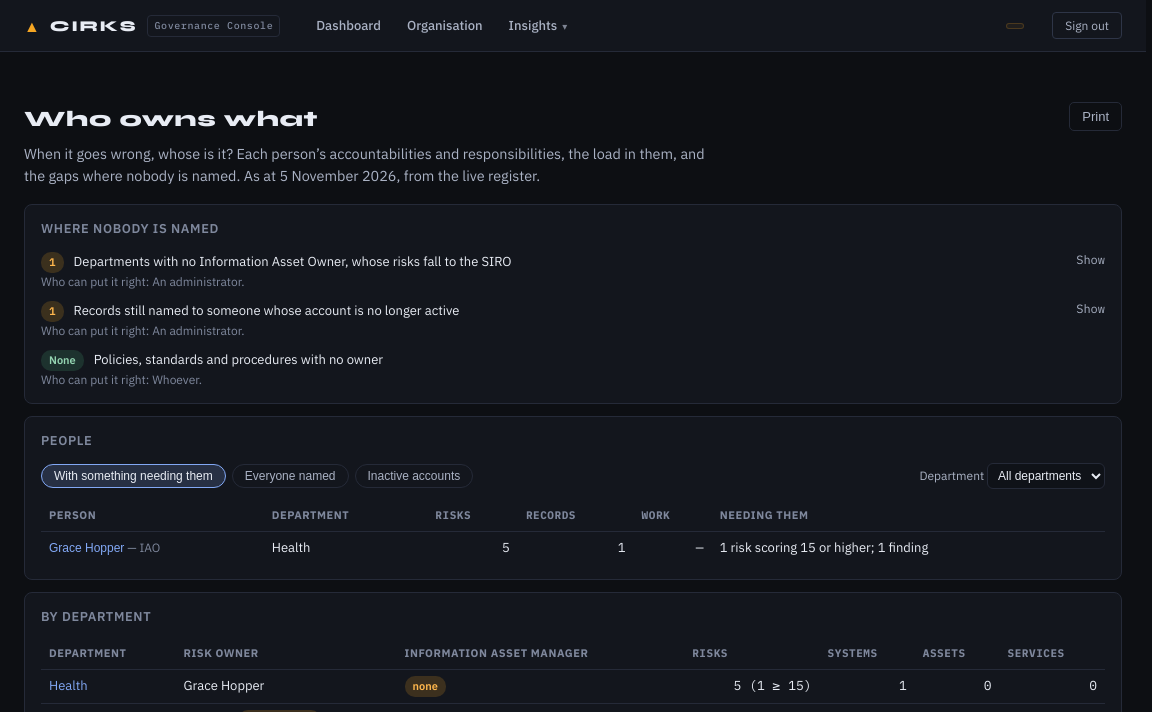
Test: Who owns what › people with something needing them come first, and unfold to their records
The width and height of the screenshot is (1152, 712).
Check: the button "Lee Ver" is not shown
Check: the text "1 risk scoring 15 or higher; 1 finding" is shown, box [712, 531, 1105, 565]
Click the button "Grace Hopper". click: (87, 548)
box: [49, 541, 124, 555]
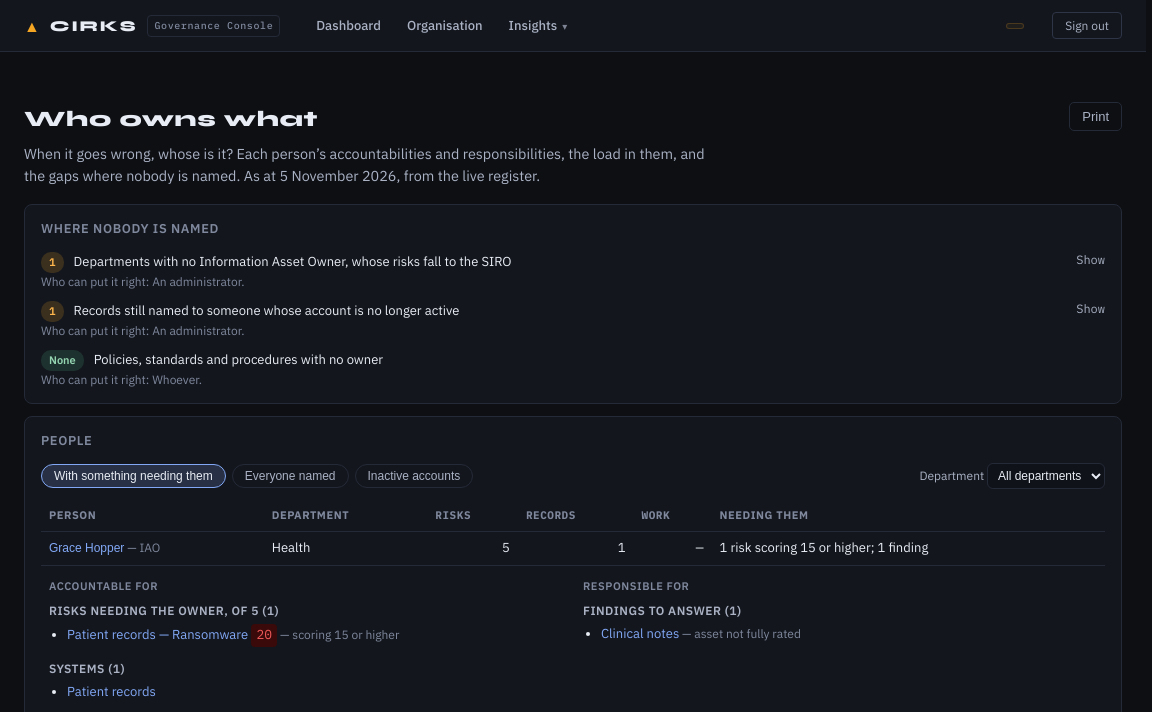
Click the button "Inactive accounts". click: (414, 476)
box: [354, 464, 473, 488]
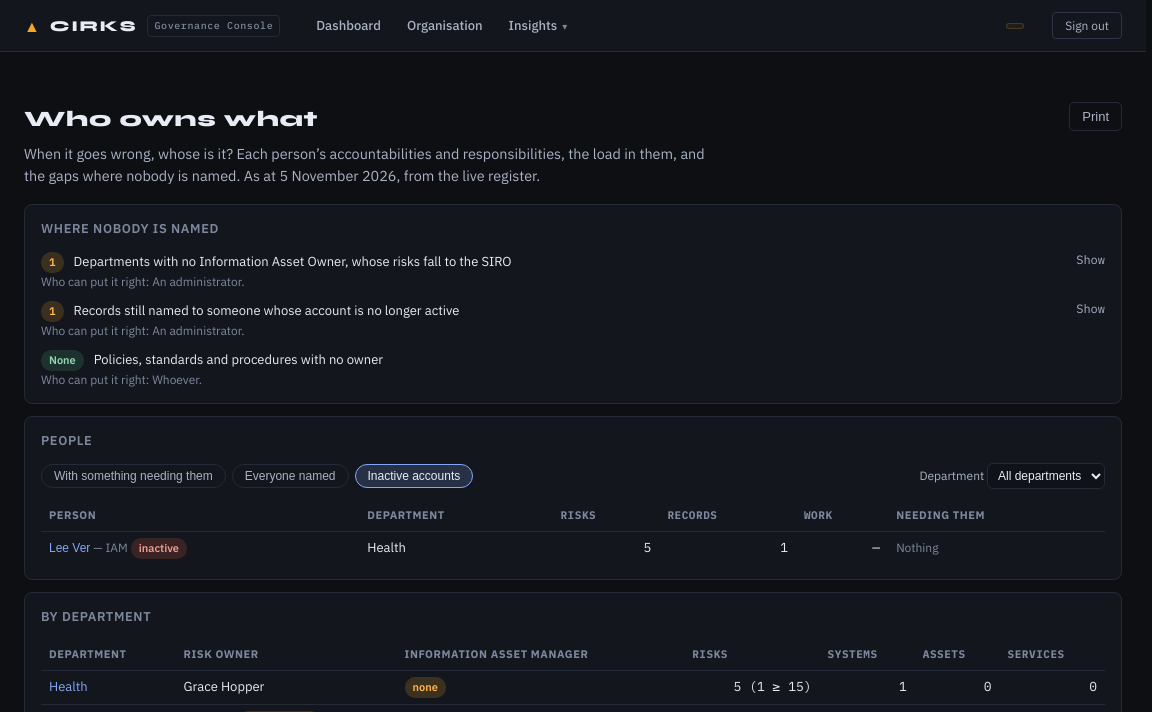
Check: the button "Lee Ver" is shown, box [49, 541, 90, 555]
